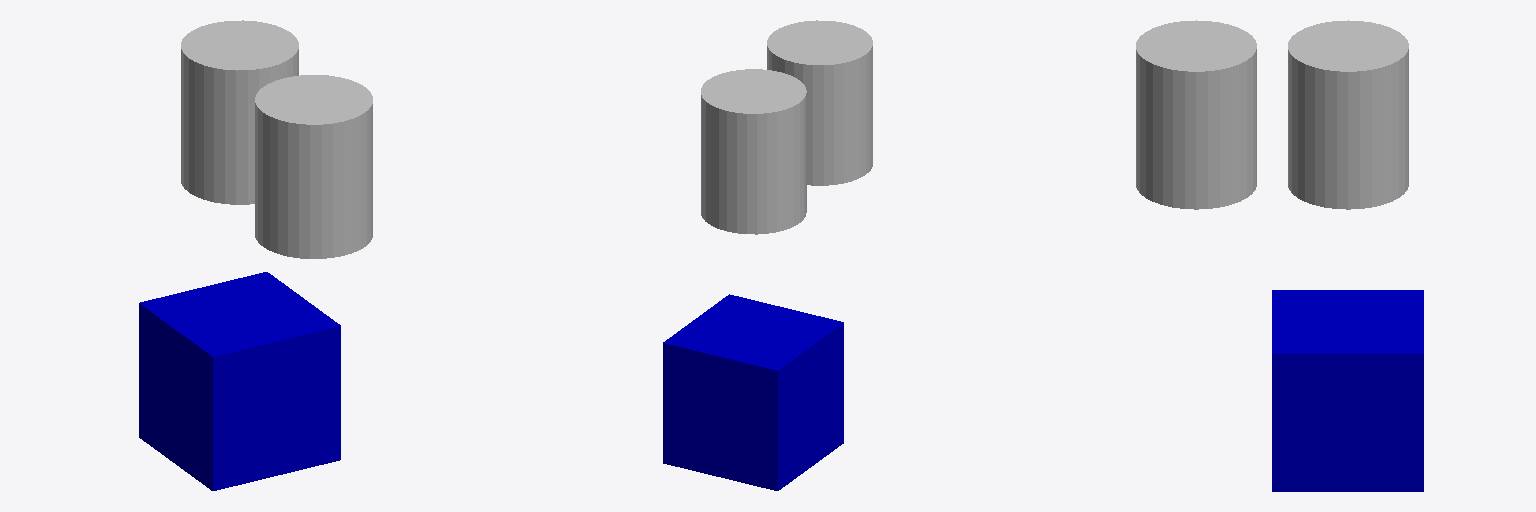
URDF robot description (RSP):
<?xml version="1.0" ?>
<!-- =================================================================================== -->
<!-- |    This document was autogenerated by xacro from robot.urdf.xacro               | -->
<!-- |    EDITING THIS FILE BY HAND IS NOT RECOMMENDED                                 | -->
<!-- =================================================================================== -->
<robot name="RSP">
  <link name="world"/>
  <link name="arm_link_0">
    <visual>
      <origin xyz="0 0 0"/>
      <geometry>
        <box size="0.5 0.5 0.5"/>
      </geometry>
      <material name="blue">
        <color rgba="0.0 0.0 0.8 1.0"/>
      </material>
    </visual>
  </link>
  <link name="arm_link_1">
    <visual>
      <origin xyz="0 0 0.5"/>
      <geometry>
        <cylinder length="0.5" radius="0.2"/>
      </geometry>
      <material name="white">
        <color rgba="0.8 0.8 0.8 1.0"/>
      </material>
    </visual>
  </link>
  <link name="arm_link_2">
    <visual>
      <origin rpy="1.5707963267948966 0 0" xyz="0 0 0.5"/>
      <geometry>
        <cylinder length="0.5" radius="0.2"/>
      </geometry>
      <material name="white">
        <color rgba="0.8 0.8 0.8 1.0"/>
      </material>
    </visual>
  </link>
  <link name="arm_flange">
      
    </link>
  <joint name="arm_base_joint" type="fixed">
    <parent link="world"/>
    <child link="arm_link_0"/>
  </joint>
  <joint name="arm_joint_1" type="revolute">
    <parent link="arm_link_0"/>
    <child link="arm_link_1"/>
    <origin rpy="0 0 0" xyz="0 0 0.5"/>
    <!-- <limit lower="-1" upper="1" effort="10" velocity="1"/> -->
  </joint>
  <joint name="arm_joint_2" type="revolute">
    <parent link="arm_link_1"/>
    <child link="arm_link_2"/>
    <origin rpy="1.5707963267948966 0 0" xyz="0 0 0.5"/>
  </joint>
  <joint name="arm_joint_tip" type="fixed">
    <parent link="arm_link_2"/>
    <child link="arm_flange"/>
    <origin xyz="0.0 0.0 0.5"/>
  </joint>
</robot>

--- Facts derived from the render (not from the file) ---
Views: 3 orthographic renders of the robot side by side, from view 1: azimuth 30°, elevation 25°; view 2: azimuth 150°, elevation 25°; view 3: azimuth 270°, elevation 25°.
Robot: RSP — 5 links, 4 joints (2 revolute, 2 fixed); root link world; default pose: all joints at 0.
Visible links, largest first — view 1: arm_link_0, arm_link_2, arm_link_1; view 2: arm_link_0, arm_link_1, arm_link_2; view 3: arm_link_0, arm_link_1, arm_link_2.
Link boxes in pixels (box(x1,y1,x2,y2)): arm_link_0: box(139, 272, 340, 490); arm_link_2: box(255, 75, 372, 258); arm_link_1: box(181, 20, 298, 204); arm_link_0: box(663, 294, 843, 490); arm_link_1: box(701, 69, 806, 234); arm_link_2: box(767, 20, 872, 185); arm_link_0: box(1272, 290, 1423, 491); arm_link_1: box(1288, 20, 1408, 209); arm_link_2: box(1136, 20, 1256, 209).
Size in the robot's own frame: 0.5 by 0.95 by 1.5 metres.
Geometry: primitives only (box / cylinder / sphere), no mesh files.